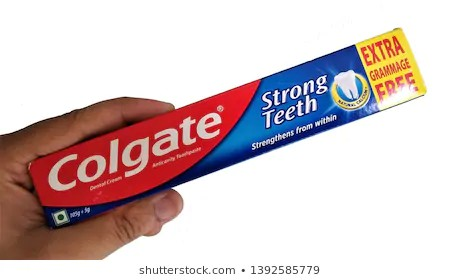colgate-small: (36, 23, 427, 232)
